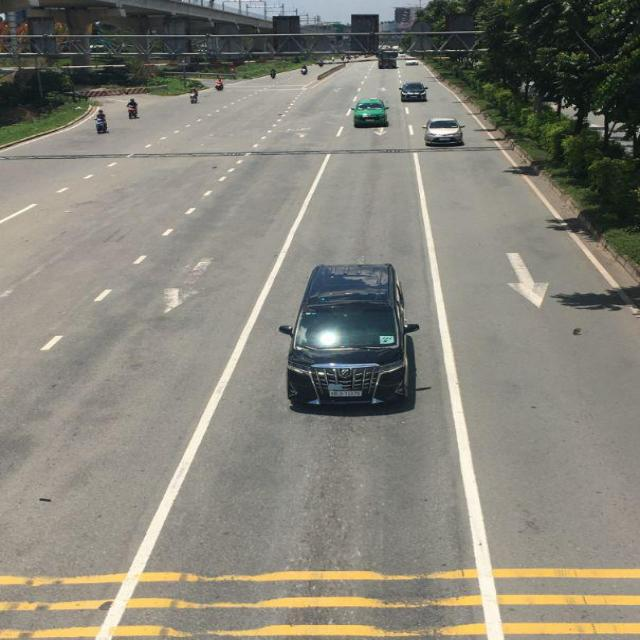car: (284, 261, 416, 411), (425, 116, 464, 148), (354, 98, 391, 130), (401, 81, 429, 102), (406, 59, 418, 66)
motorcycle: (96, 110, 107, 134), (217, 80, 225, 92)
truck: (380, 48, 400, 70)
